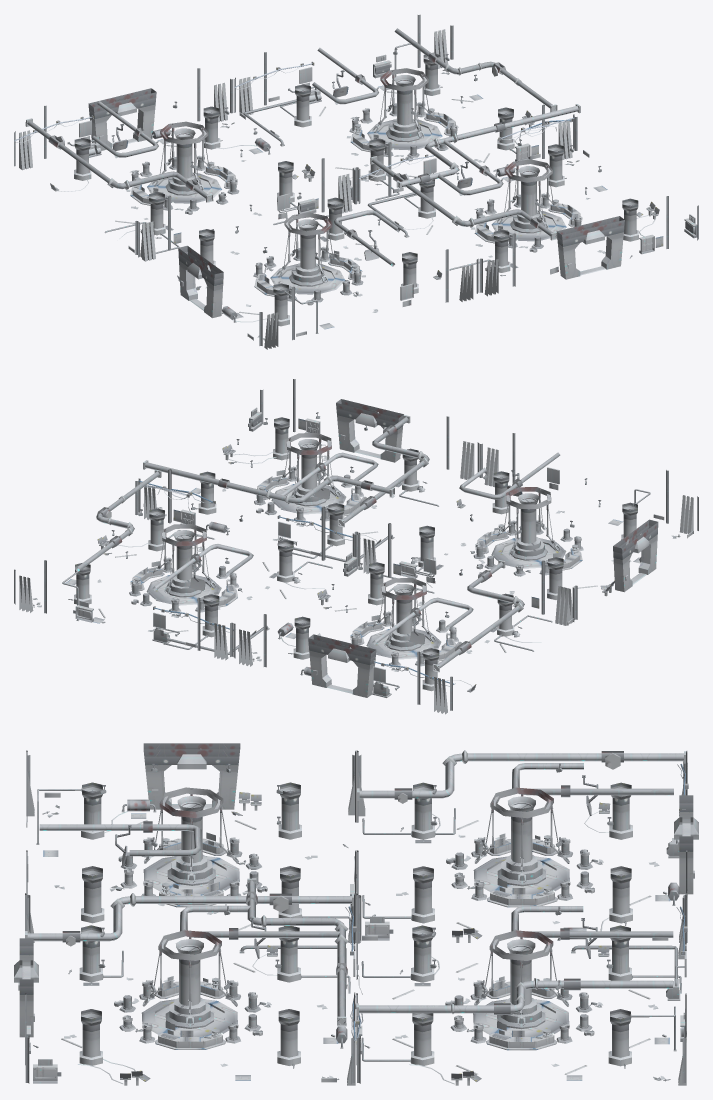
Rendered from Combined_Mesh_root_scene__9_f65a131e__ZombiesII_laboratory_01_d_47037629_c1f257_part001.obj.
3 renders of one model, top to bottom at view 1: azimuth 30°, elevation 25°; view 2: azimuth 150°, elevation 25°; view 3: azimuth 270°, elevation 25°, orthographic. The views are drawn at different scales.
Bounding box in the file's own units: 83.04 × 10.34 × 83.14.
Materials: 538 (538 with a texture image).
